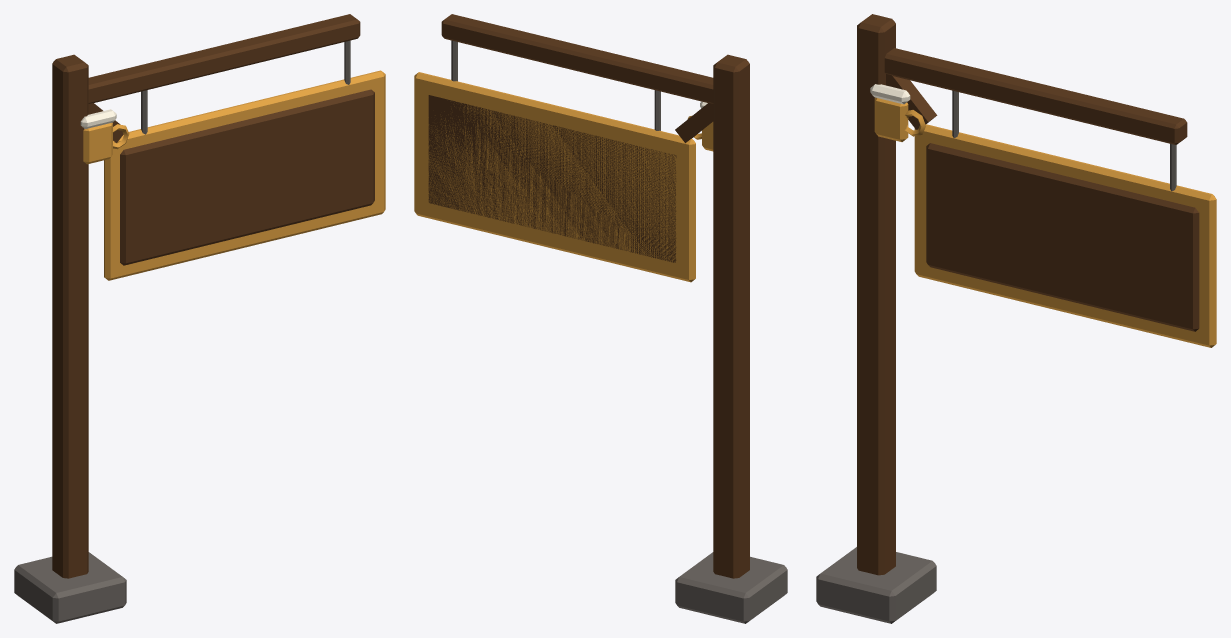
Rendered from PR_Sign_2.fbx.
3 renders of one model, left to right at view 1: azimuth 30°, elevation 25°; view 2: azimuth 150°, elevation 25°; view 3: azimuth 330°, elevation 25°, orthographic. The views are drawn at different scales.
Visible parts, largest first — view 1: PR_Sign_2; view 2: PR_Sign_2; view 3: PR_Sign_2.
Boxes of the visible parts, bbox=[...] form: PR_Sign_2: bbox=[14, 14, 385, 623]; PR_Sign_2: bbox=[414, 14, 787, 623]; PR_Sign_2: bbox=[816, 14, 1216, 623].
Bounding box in the file's own units: 1.91 × 2.8 × 0.4.
